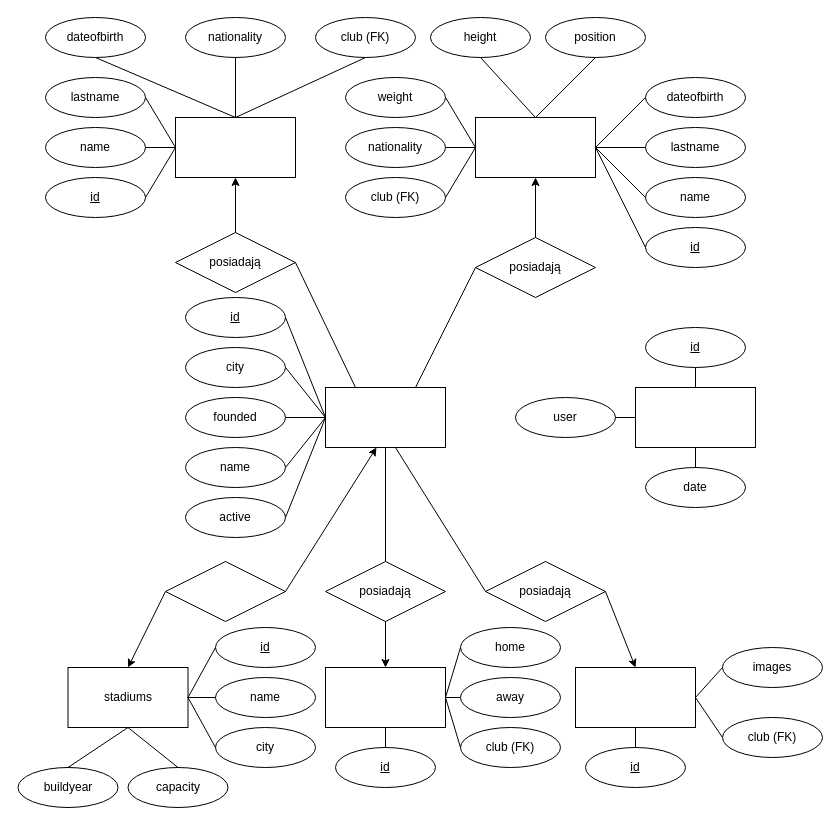
Some shapes in this 840 by 825 pixel diagram are drawn without their labels. Here are the shapes that lost their labels. From the top down, the centre of each, then its label:
(235,147): coaches
(535,147): players
(385,417): clubs
(695,417): logs
(225,591): korzystają z
(385,697): kits
(635,697): crests
